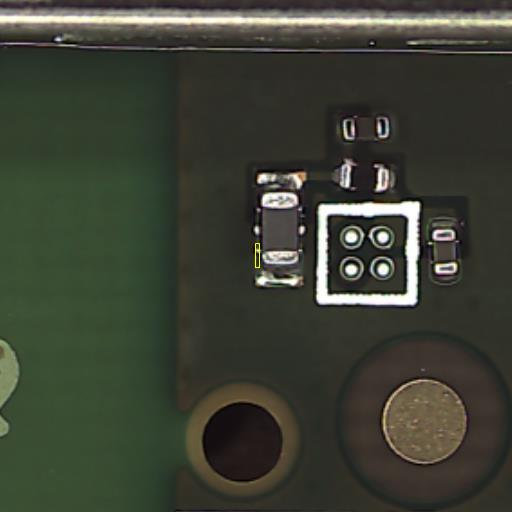bottom_layer: (256, 172, 303, 286), (430, 217, 461, 285), (336, 115, 396, 144), (335, 164, 395, 192)
top_layer: (261, 193, 300, 263), (342, 165, 388, 191), (433, 229, 456, 274), (344, 117, 388, 140)
